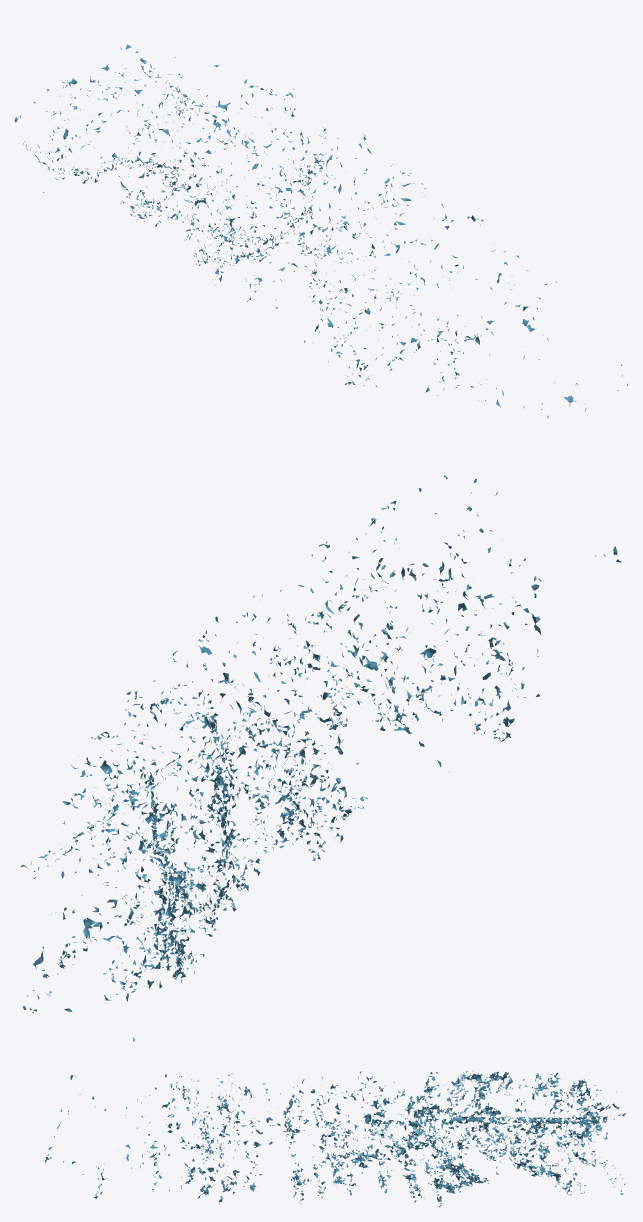
3 renders of one model, top to bottom at view 1: azimuth 30°, elevation 25°; view 2: azimuth 150°, elevation 25°; view 3: azimuth 270°, elevation 25°, orthographic. The views are drawn at different scales.
Size of the model in its own units: 0.1233 by 0.1041 by 0.4764.
